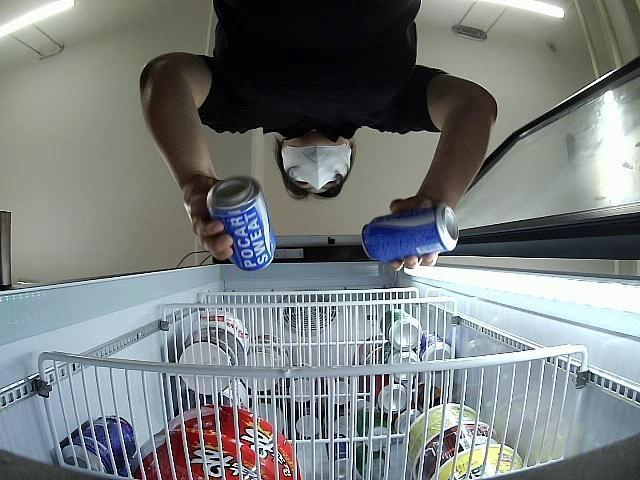13_pocariSweat: (207, 175, 278, 270), (360, 202, 460, 262)
